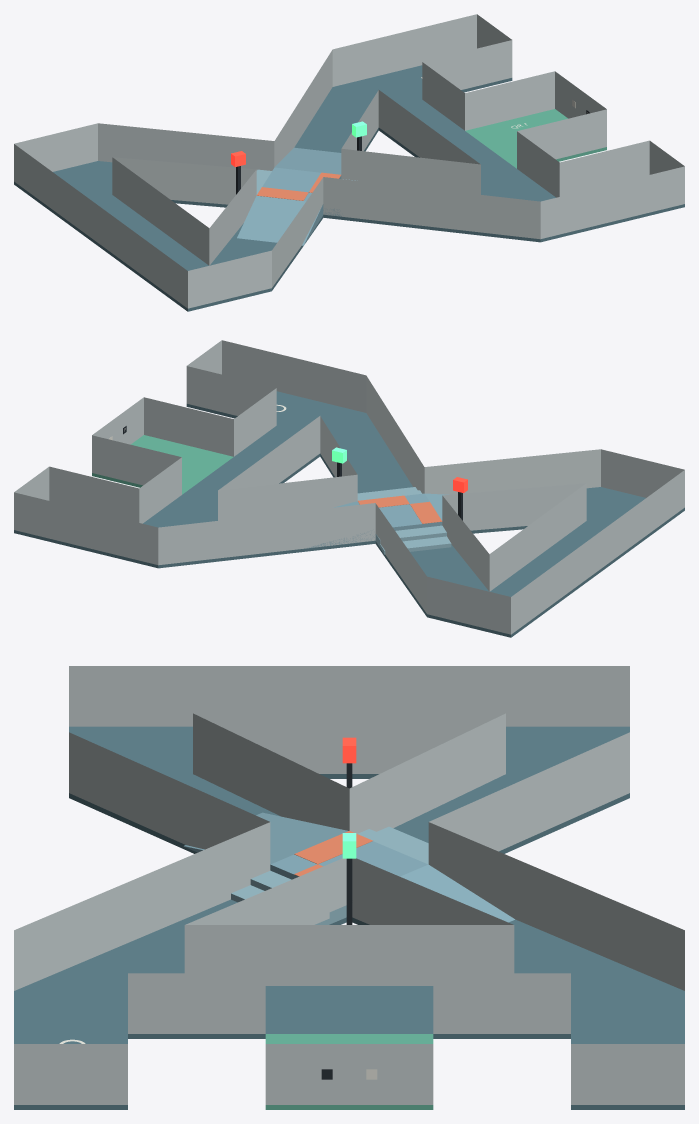
Rendered from arena.glb.
3 renders of one model, top to bottom at view 1: azimuth 30°, elevation 25°; view 2: azimuth 150°, elevation 25°; view 3: azimuth 270°, elevation 25°, orthographic. The views are drawn at different scales.
Parts seen in each view (by area): view 1: wall_outer_03, wall_outer_20, wall_outer_18, wall_outer_05, wall_outer_15, floor_left_straight, wall_inner_1_03, floor_right_straight, wall_inner_0_02, wall_inner_0_03, wall_outer_11, wall_outer_01 (+25 smaller); view 2: wall_outer_17, wall_outer_20, wall_outer_15, wall_outer_02, wall_outer_05, floor_left_straight, wall_inner_1_02, floor_right_straight, wall_inner_0_01, wall_inner_0_03, wall_outer_09, floor_se_diagonal (+25 smaller); view 3: wall_outer_20, wall_inner_1_01, wall_outer_03, wall_outer_17, wall_inner_0_03, wall_outer_18, wall_outer_02, wall_outer_10, floor_right_straight, wall_inner_0_02, wall_inner_0_01, wall_outer_08 (+19 smaller).
Part boxes in pixels (box(x1,y1,x2,y2)): wall_outer_03: box(323, 177, 540, 239); wall_outer_20: box(14, 144, 187, 308); wall_outer_18: box(98, 123, 274, 170); wall_outer_05: box(541, 166, 684, 238); wall_outer_15: box(333, 14, 476, 86); floor_left_straight: box(14, 161, 271, 311); wall_inner_1_03: box(341, 148, 480, 194); floor_right_straight: box(361, 99, 555, 201); wall_inner_0_02: box(113, 157, 256, 204); wall_inner_0_03: box(112, 157, 209, 265); wall_outer_11: box(465, 71, 554, 130); wall_outer_01: box(188, 250, 271, 308); wall_outer_17: box(158, 503, 375, 565); wall_outer_20: box(511, 470, 684, 634); wall_outer_15: box(14, 492, 157, 564); wall_outer_02: box(424, 449, 600, 494); wall_outer_05: box(222, 340, 365, 412); floor_left_straight: box(427, 487, 684, 637); wall_inner_1_02: box(218, 474, 357, 520); floor_right_straight: box(143, 425, 337, 527); wall_inner_0_01: box(442, 483, 585, 530); wall_inner_0_03: box(489, 483, 586, 591); wall_outer_09: box(144, 397, 233, 456); floor_se_diagonal: box(320, 413, 412, 493); wall_outer_20: box(69, 666, 629, 726); wall_inner_1_01: box(184, 925, 514, 985); wall_outer_03: box(14, 822, 270, 990); wall_outer_17: box(428, 822, 684, 990); wall_inner_0_03: box(193, 713, 505, 773); wall_outer_18: box(429, 732, 629, 851); wall_outer_02: box(69, 732, 269, 849); wall_outer_10: box(265, 1044, 433, 1104); floor_right_straight: box(128, 986, 570, 1038); wall_inner_0_02: box(349, 713, 505, 833); wall_inner_0_01: box(193, 713, 349, 830); wall_outer_08: box(128, 973, 265, 1033).
Bounding box in the file's own units: 8 × 0.97 × 6.
